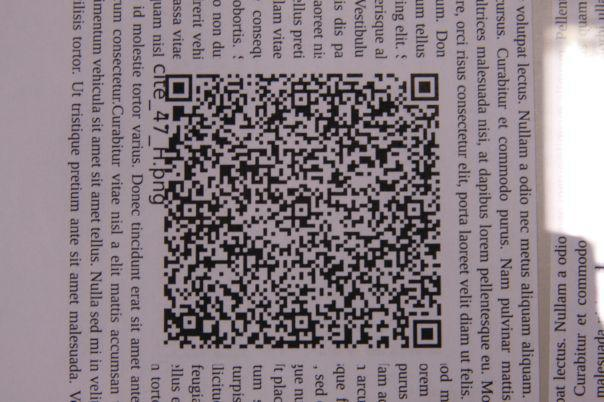Finder pattern: (410, 316, 447, 352), (406, 70, 442, 106), (161, 70, 198, 105)
